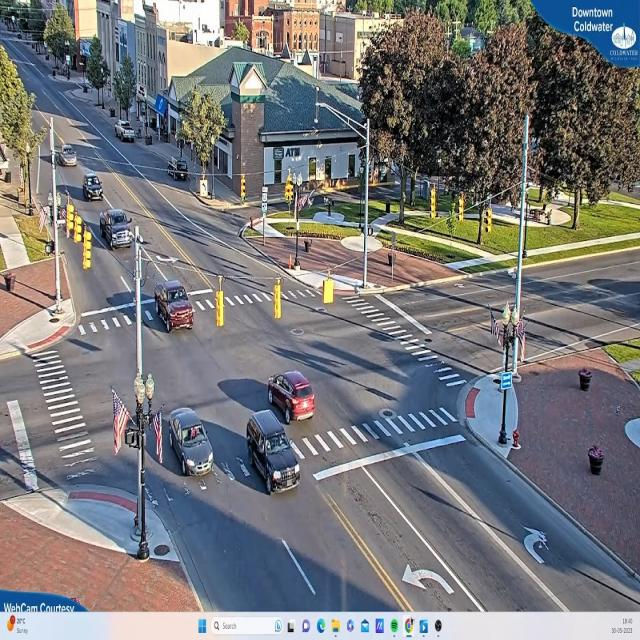car: (246, 414, 302, 495), (160, 409, 213, 476), (266, 373, 316, 426), (151, 282, 195, 334), (103, 211, 135, 250), (83, 175, 104, 202), (58, 146, 78, 167), (116, 123, 135, 143)
